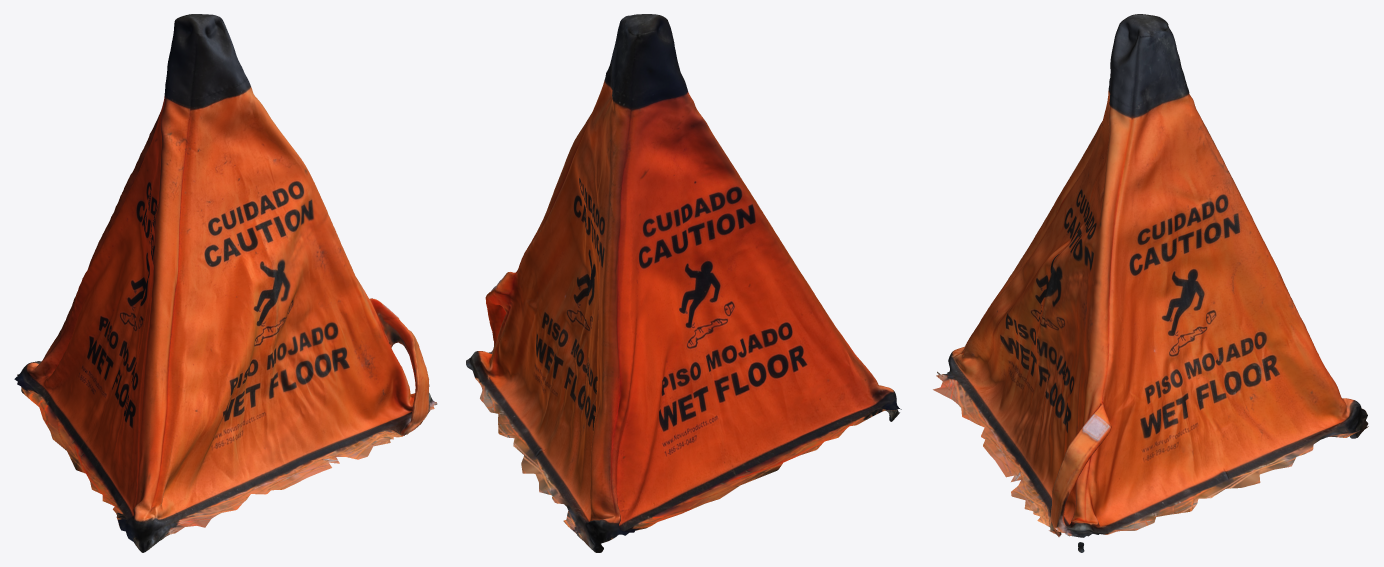
Rendered from janitorial_caution_cone.glb.
3 views of the same model, side by side, from view 1: azimuth 30°, elevation 25°; view 2: azimuth 150°, elevation 25°; view 3: azimuth 270°, elevation 25° (orthographic).
Parts seen in each view (by area): view 1: Retopo_3DModel_1; view 2: Retopo_3DModel_1; view 3: Retopo_3DModel_1.
Part boxes in pixels (x1,y1,x2,y2): Retopo_3DModel_1: [14, 14, 437, 552]; Retopo_3DModel_1: [466, 14, 901, 552]; Retopo_3DModel_1: [933, 14, 1368, 552].
Size of the model in its own units: 1.98 by 2.25 by 2.
1 material, 1 textured.
